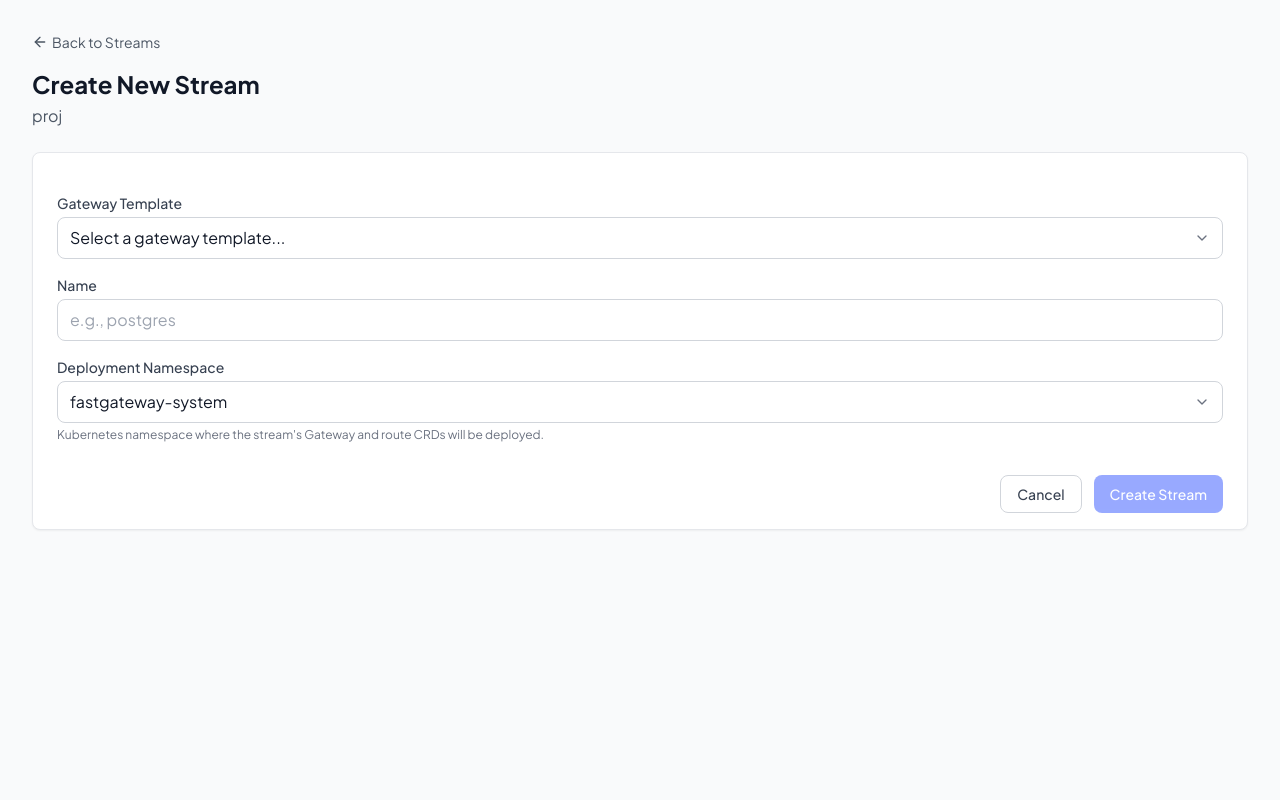
Test case: surfaces the create error: 400 non-stream template
Select "tpl — Dedicated IP" in the dropdown labelled "Gateway Template". click: (640, 238)
box: [57,217,1223,259]
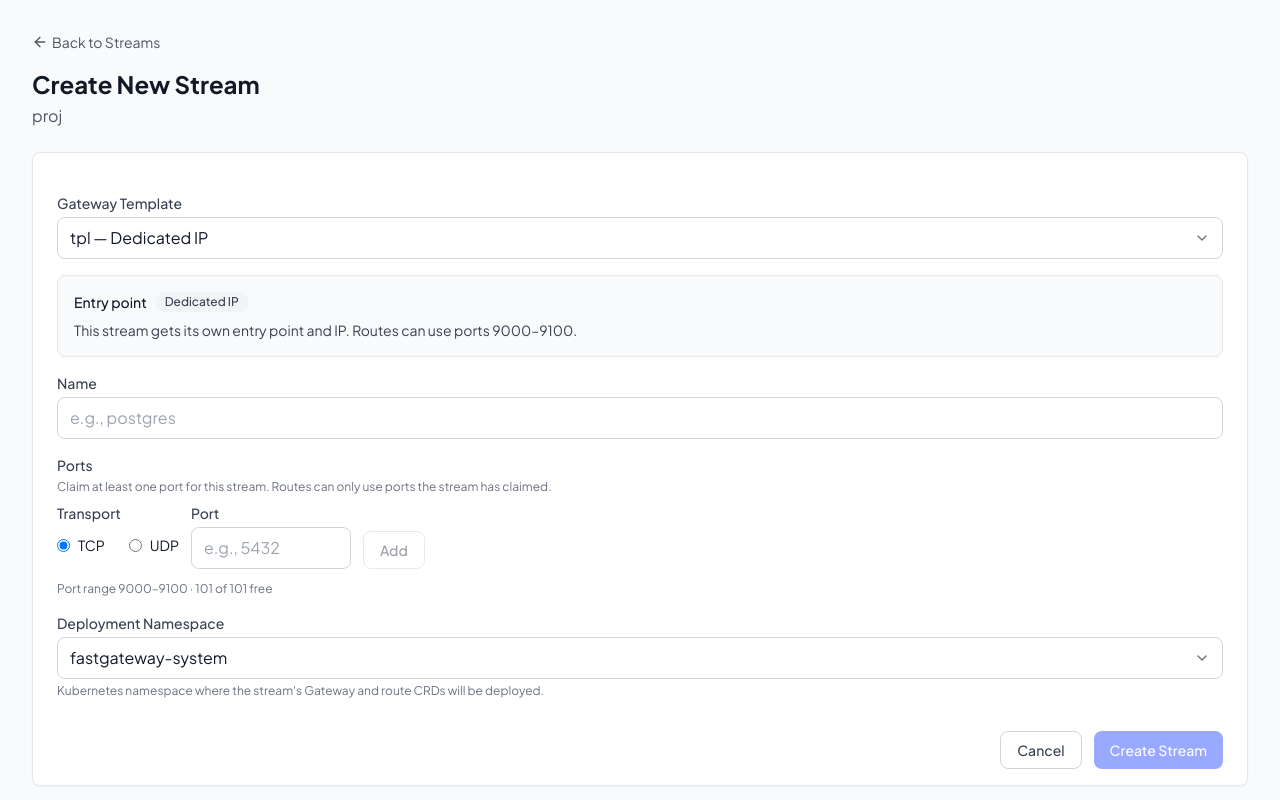
Now the element with test id "entrypoint-summary" shows "Dedicated IP", box [165,294,239,309]
Type "pg" into the field labelled "Name". click: (640, 418)
box: [57,397,1223,439]
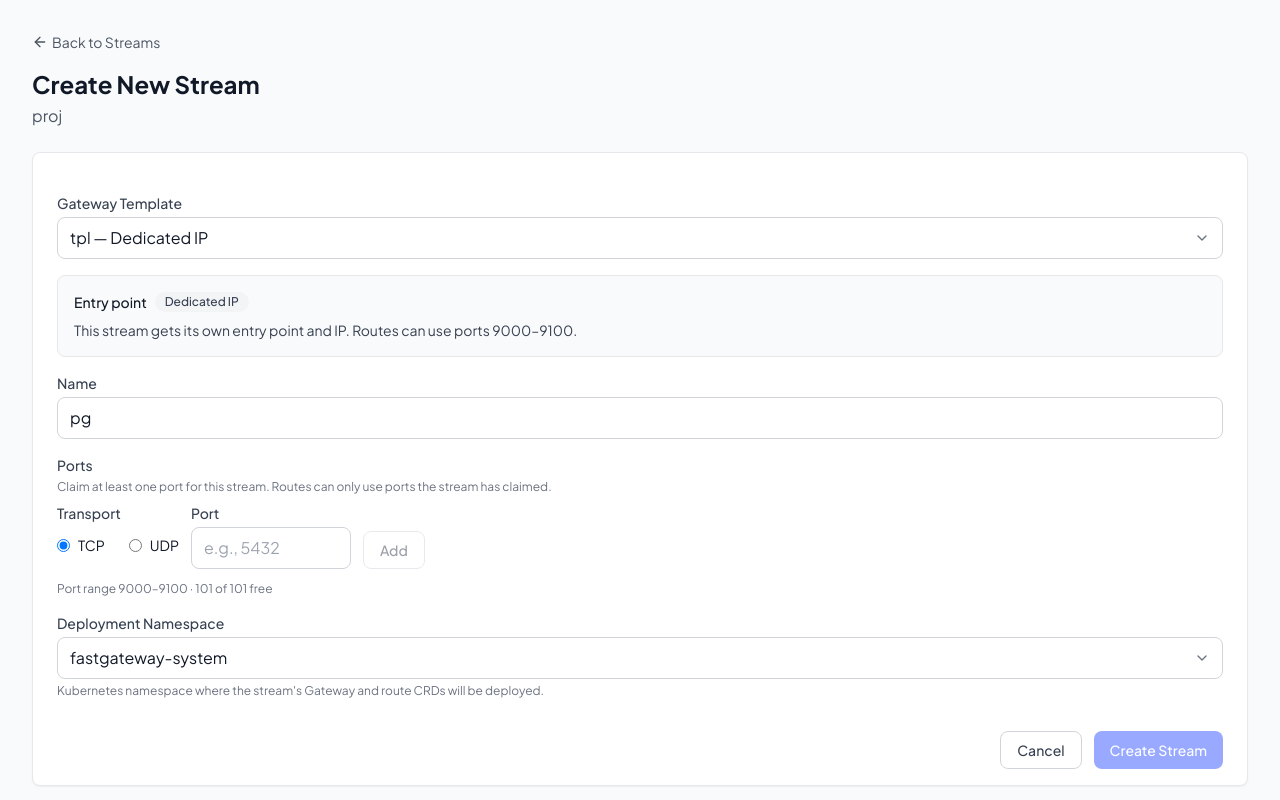
Type "9050" into the field labelled "Port". click: (271, 548)
box: [191,527,351,569]
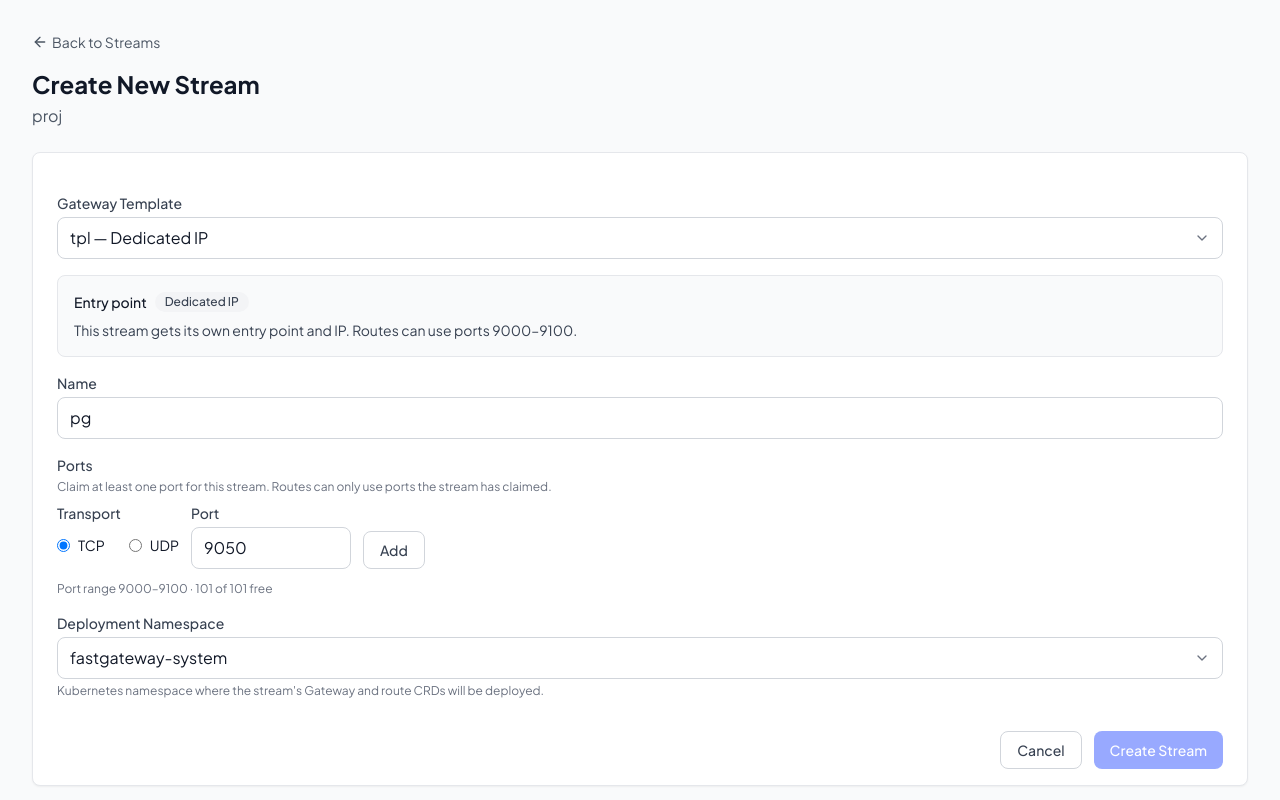
Click the button "Add". click: (394, 550)
box: [363,531,425,569]
(page scrolled)
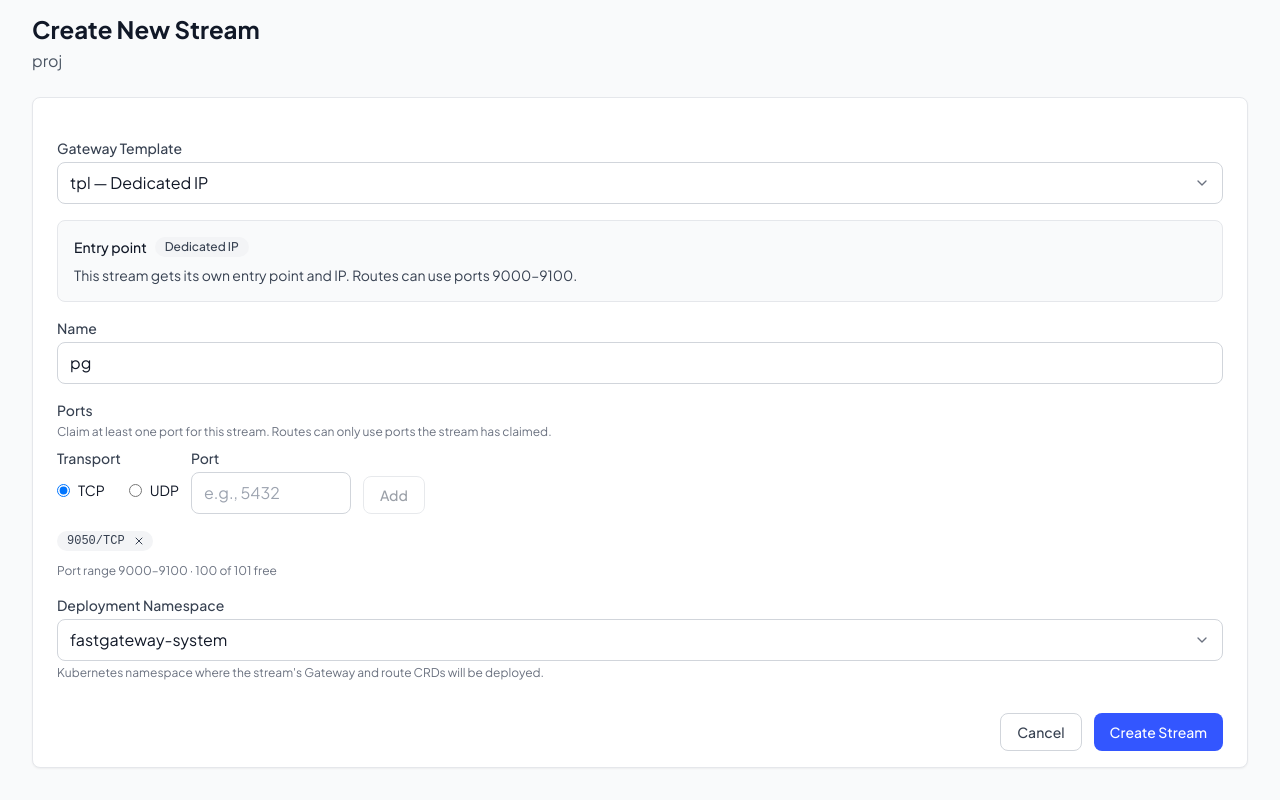
Click the button "Create Stream". click: (1158, 732)
box: [1094,713,1223,751]
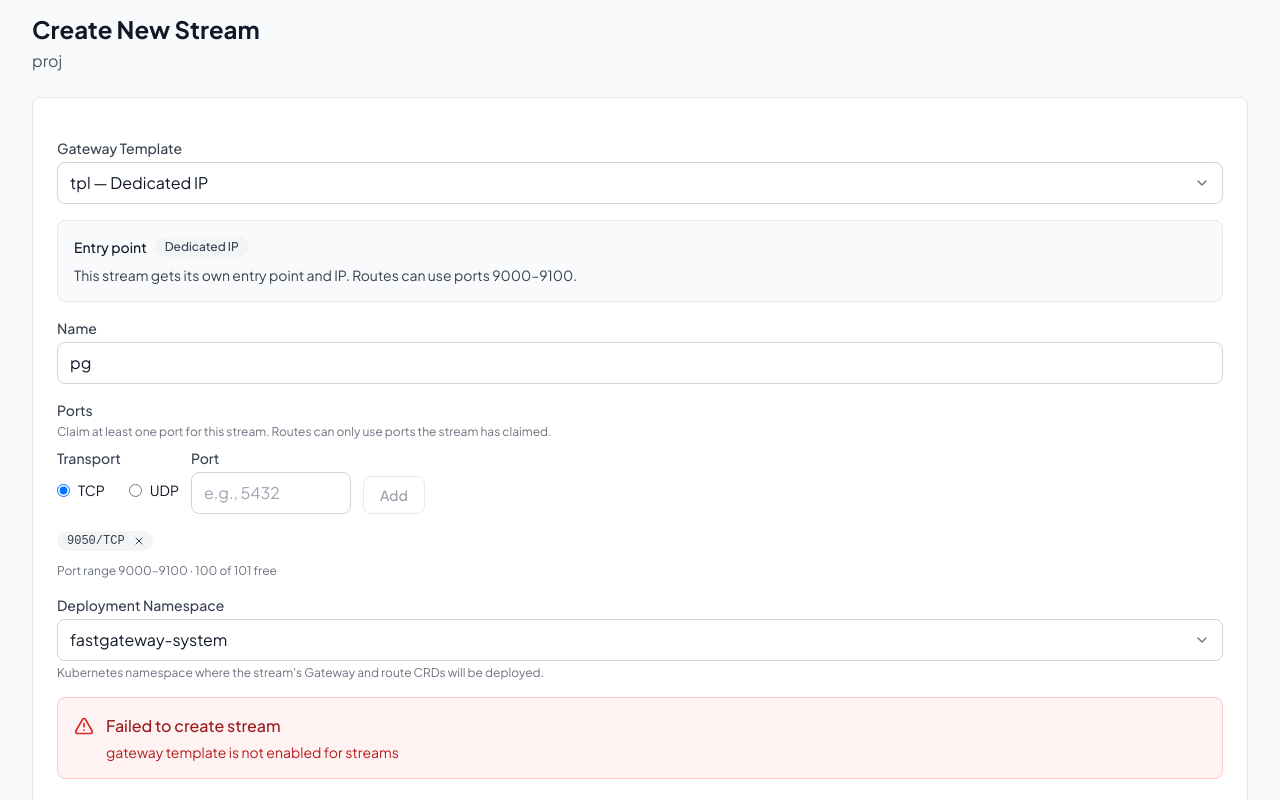
Now the text "gateway template is not enabled for streams" is shown, box [106,742,399,762]
